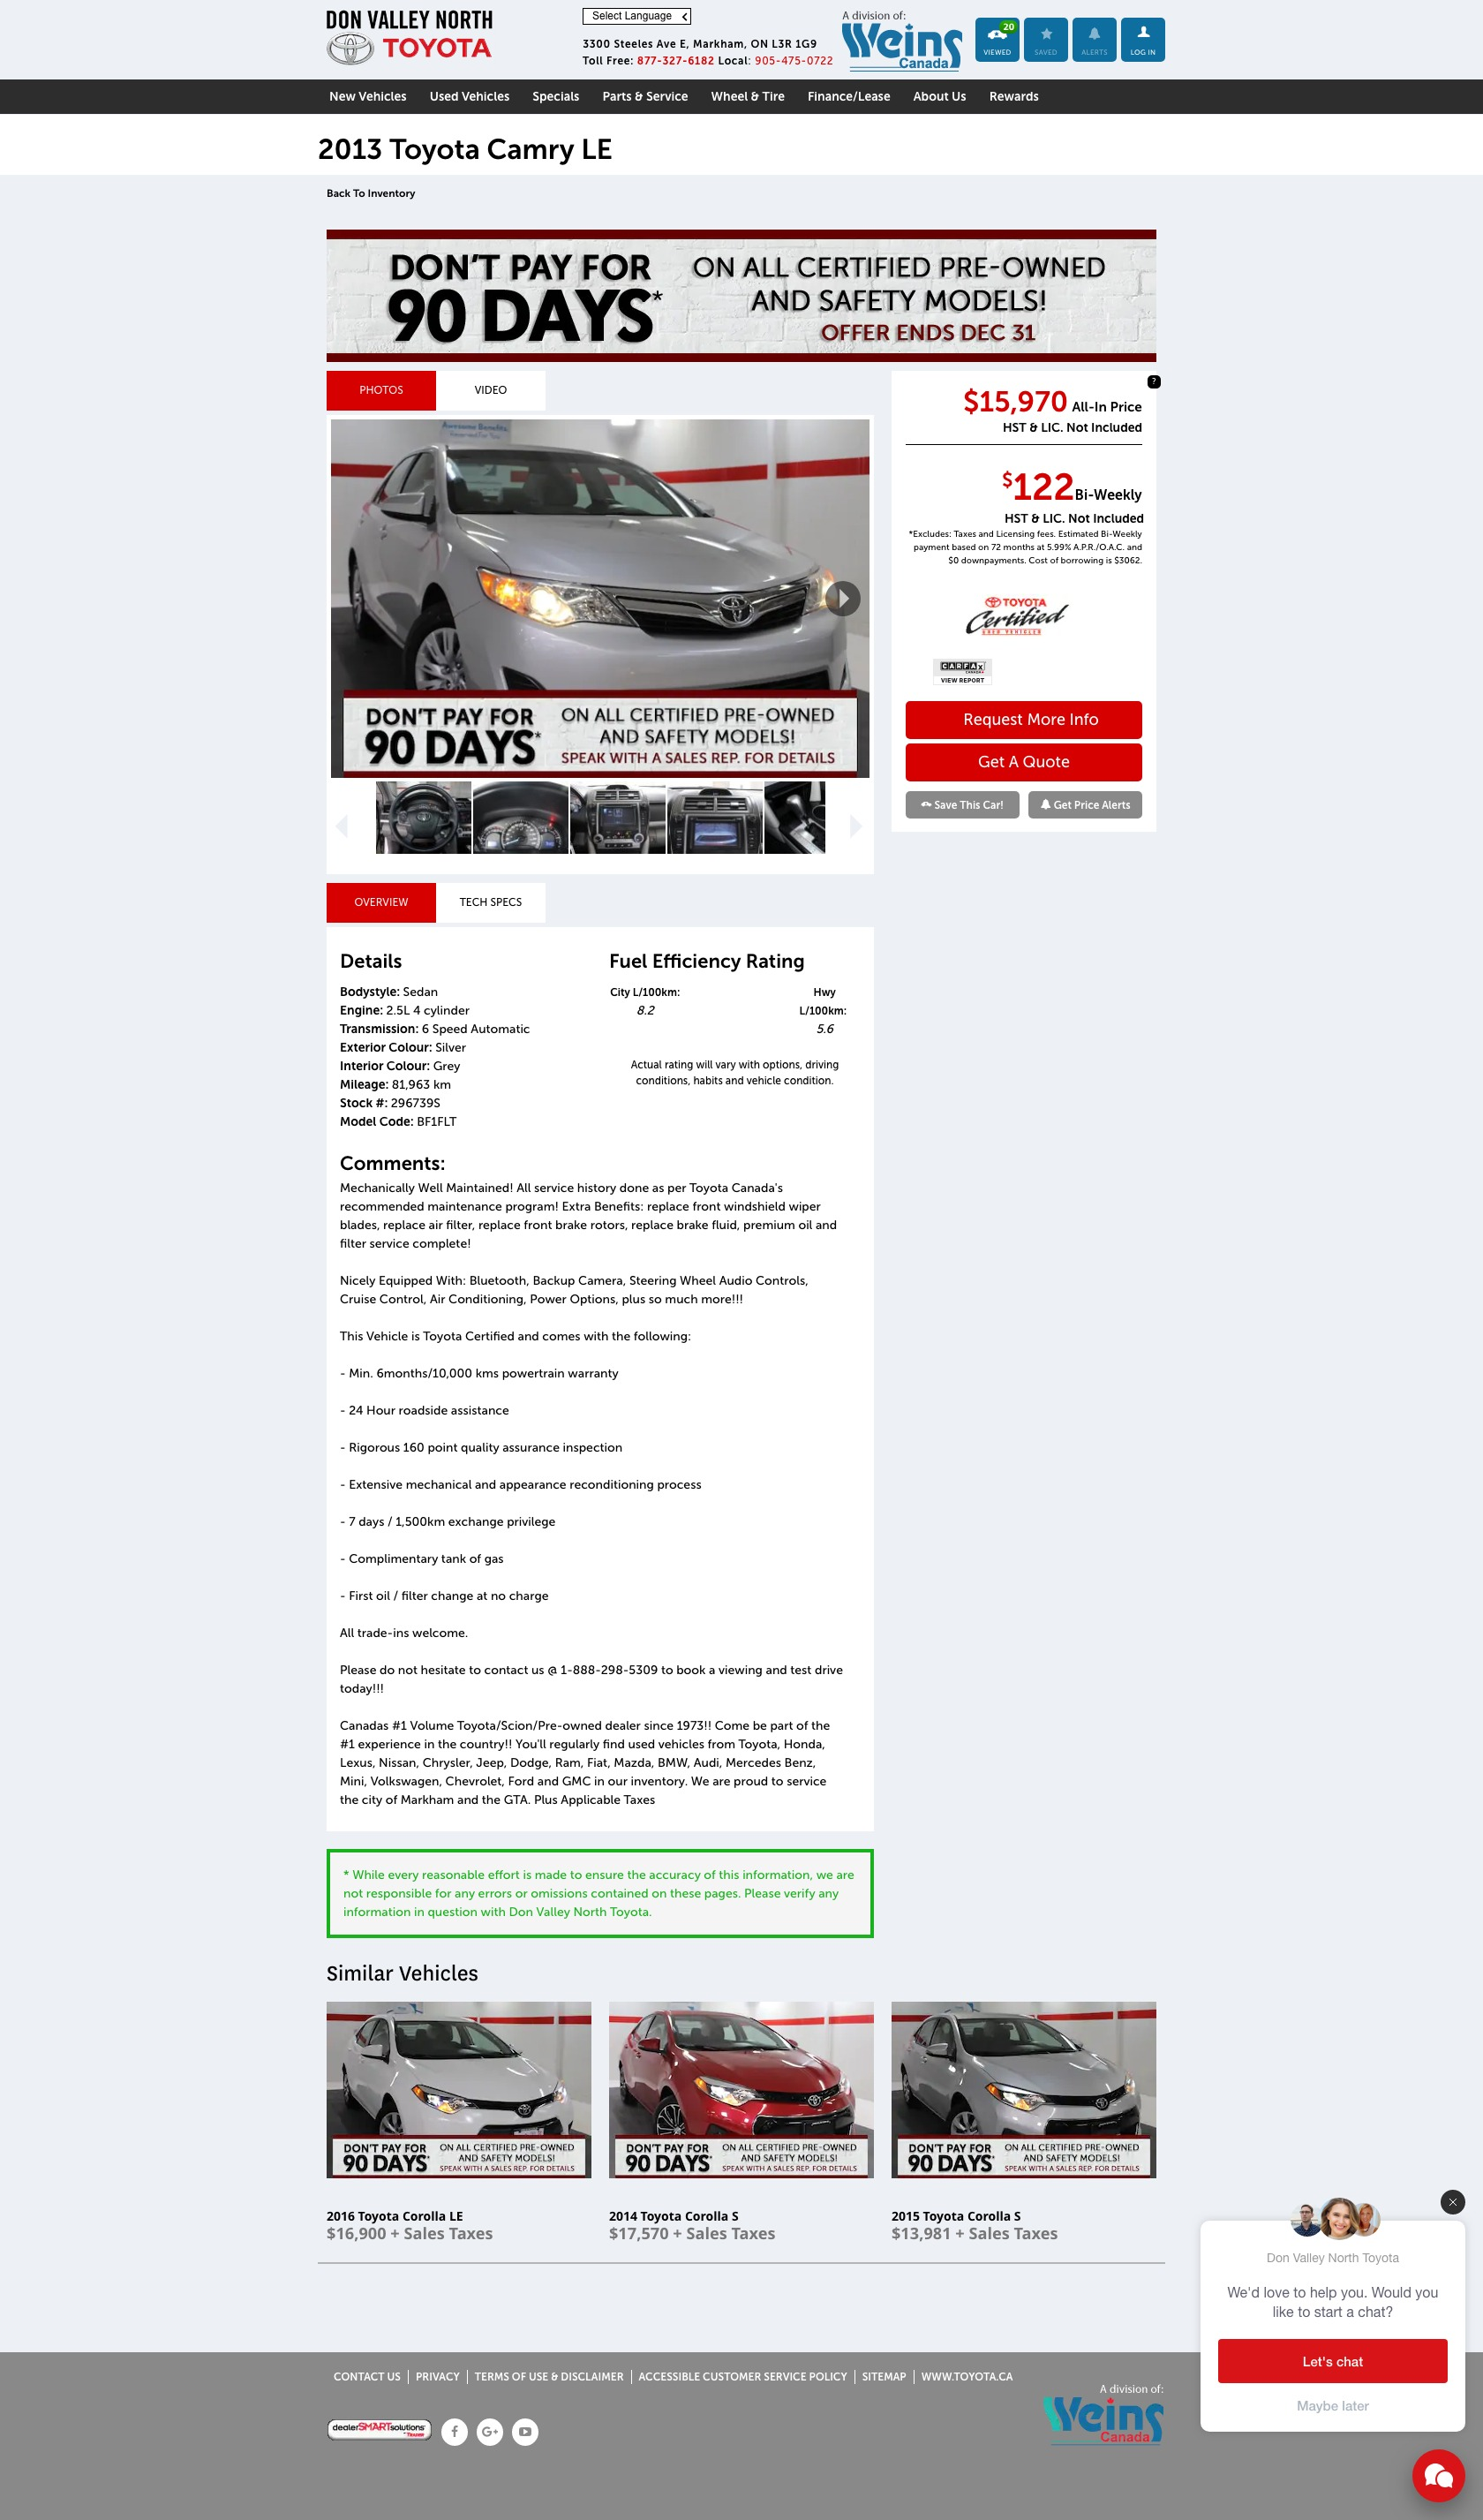car: (851, 814, 862, 841)
